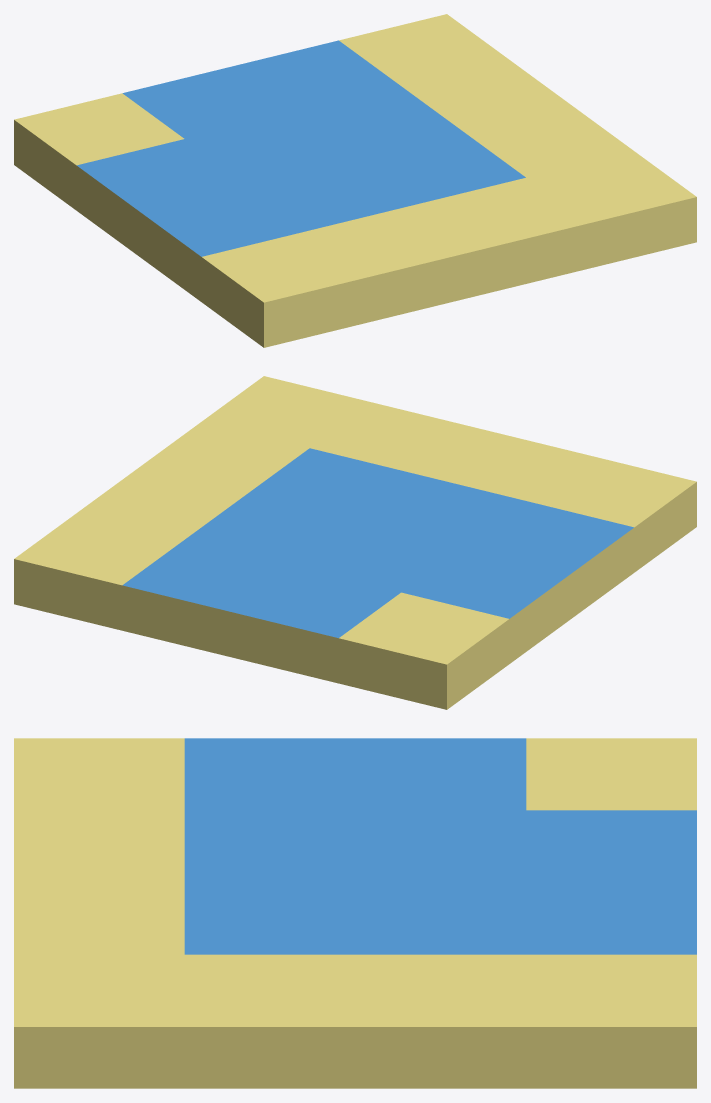
File: RiverTurn.fbx
3 renders of one model, top to bottom at view 1: azimuth 30°, elevation 25°; view 2: azimuth 150°, elevation 25°; view 3: azimuth 270°, elevation 25°, orthographic. The views are drawn at different scales.
Parts seen in each view (by area): view 1: RiverTurn; view 2: RiverTurn; view 3: RiverTurn.
Part boxes in pixels (<box>): RiverTurn: <box>14,14,696,347</box>; RiverTurn: <box>14,376,696,709</box>; RiverTurn: <box>14,738,696,1088</box>.
Bounding box in the file's own units: 1000 × 100 × 1000.
